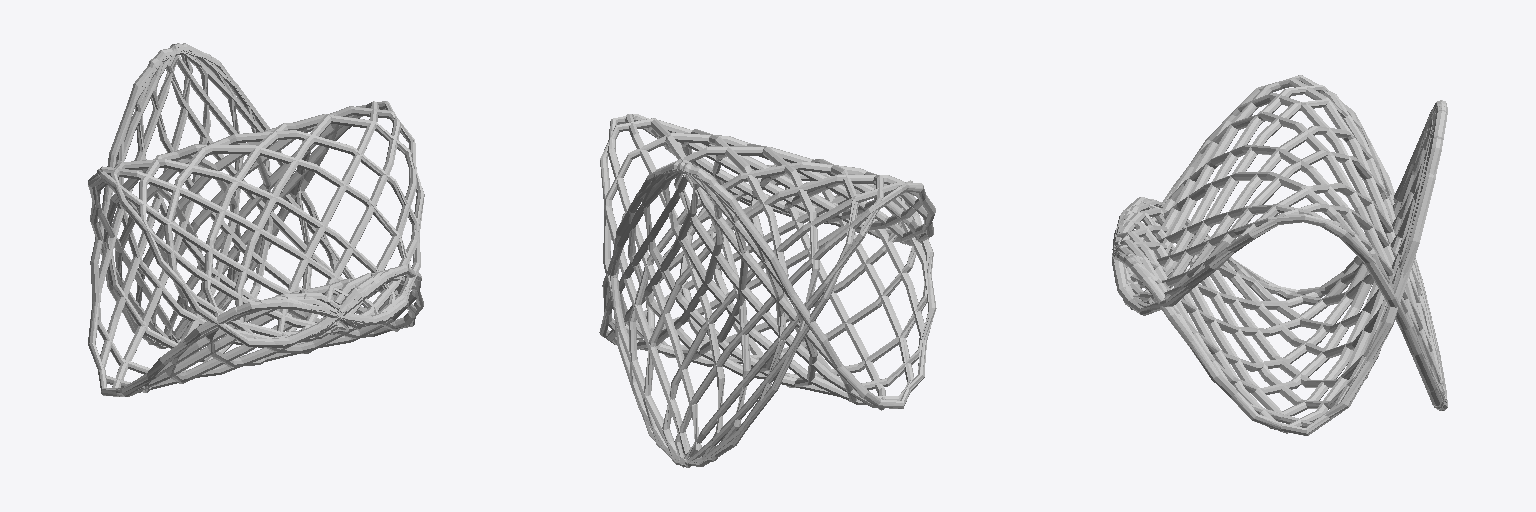
File: twoTwo.obj
3 renders of one model, left to right at view 1: azimuth 30°, elevation 25°; view 2: azimuth 150°, elevation 25°; view 3: azimuth 270°, elevation 25°, orthographic.
Visible parts, largest first — view 1: Sweep; view 2: Sweep; view 3: Sweep.
Boxes of the visible parts, x1=… form: Sweep: x1=88, y1=43, x2=424, y2=396; Sweep: x1=599, y1=114, x2=936, y2=467; Sweep: x1=1112, y1=75, x2=1447, y2=435.
Bounding box in the file's own units: 1.3 × 1.3 × 1.3.